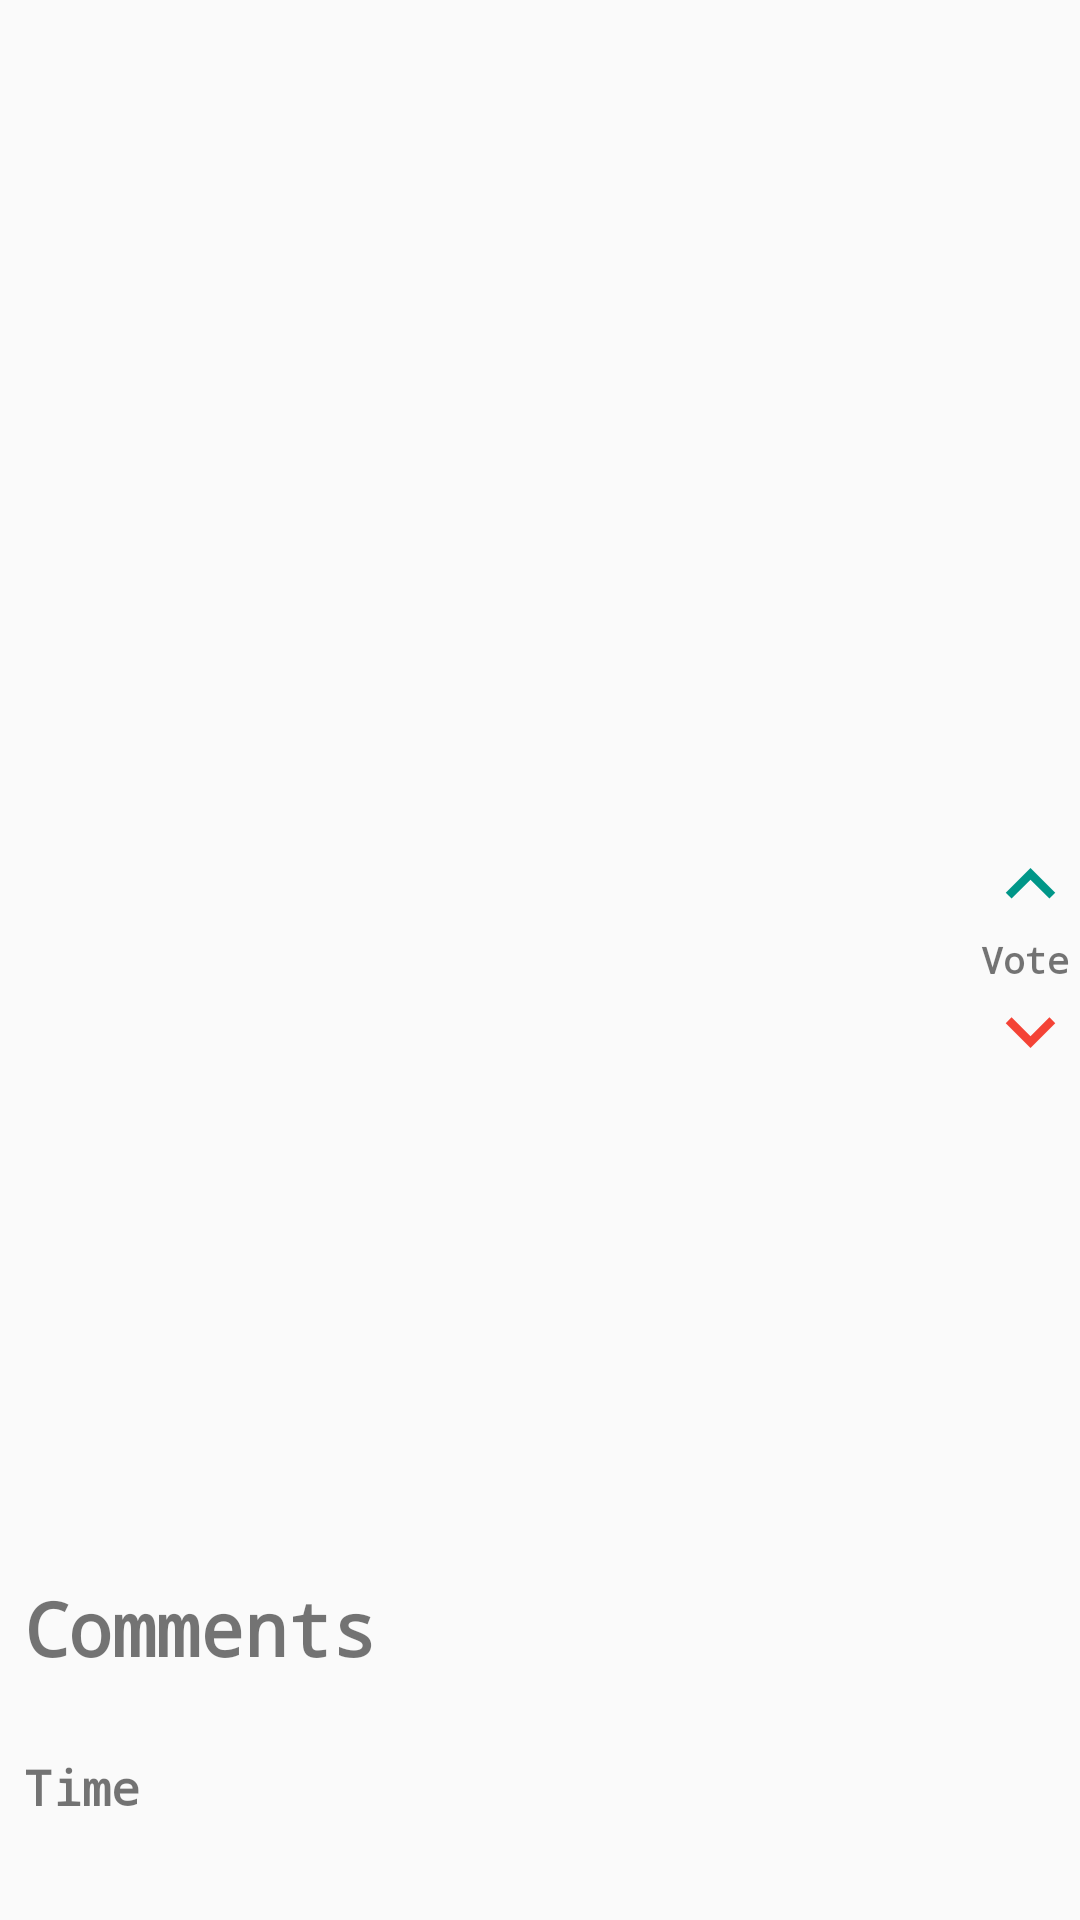

Icons on this 1080px×1920px Android screen, each with its box as (x1, y1, x2, y2):
down arrow: (1006, 1017, 1055, 1048)
up arrow: (1006, 868, 1055, 899)
